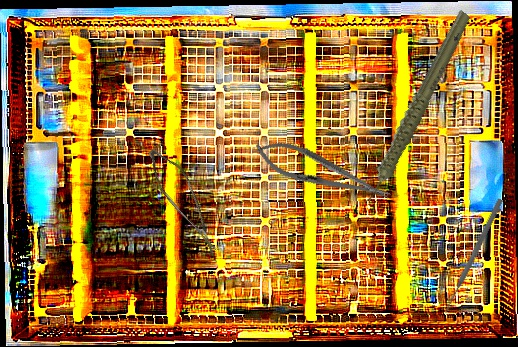Handpiece: (321, 8, 506, 208)
Micro Scissor: (131, 143, 240, 256)
Needle Holder: (249, 131, 396, 214)
Pusher: (441, 197, 505, 315)
